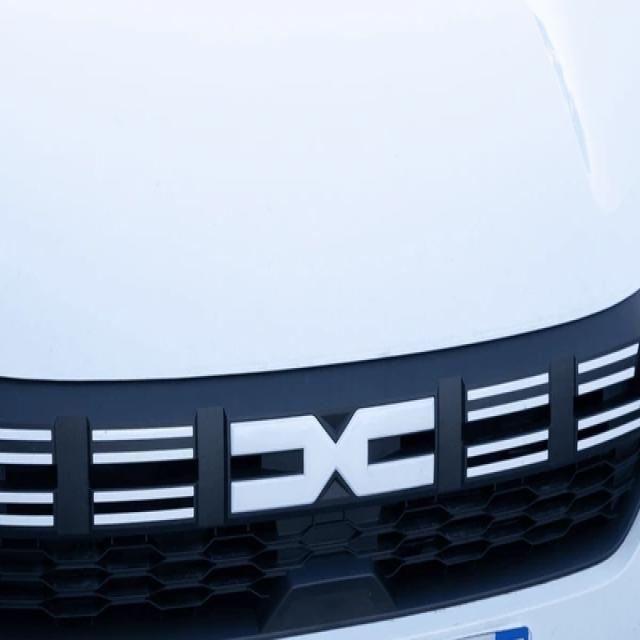dacia: (228, 395, 438, 509)
